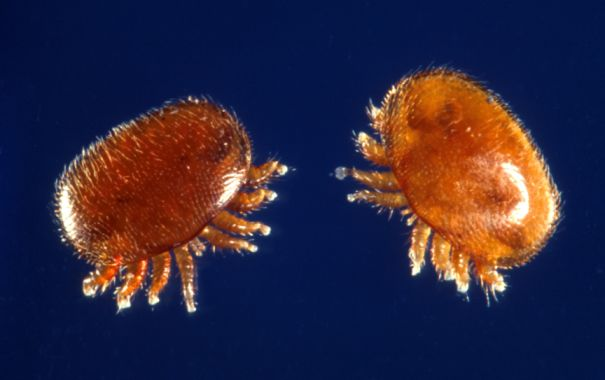mite: (311, 37, 573, 313), (49, 77, 273, 329)
